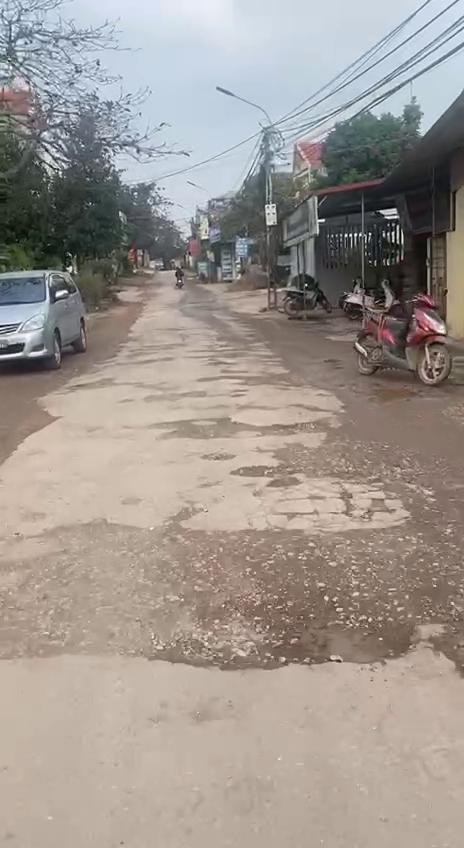pothole: (0, 522, 464, 676), (311, 454, 408, 486), (151, 415, 246, 444), (326, 492, 400, 526), (196, 368, 299, 390), (233, 463, 306, 491), (262, 416, 336, 442), (139, 388, 206, 403), (68, 376, 117, 394)
